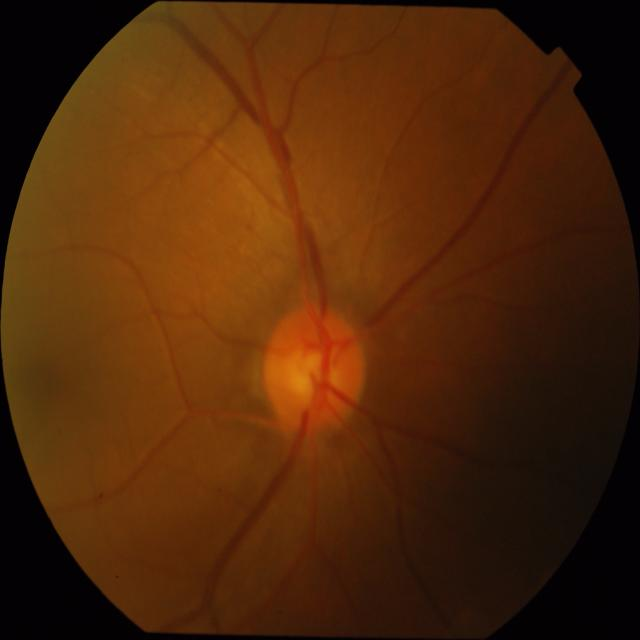OC: (282, 332, 342, 409)
OD: (260, 306, 368, 434)
